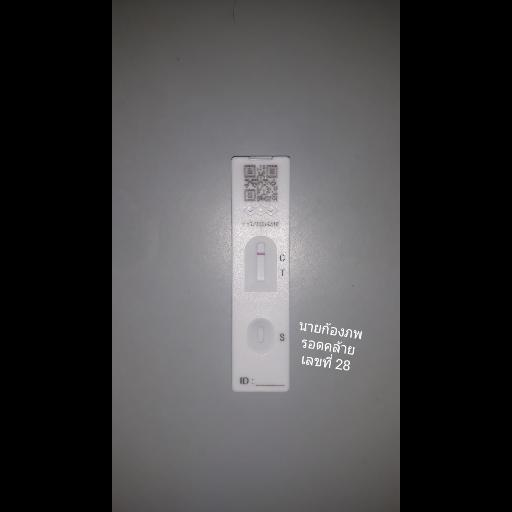Neg: (230, 155, 288, 393)
